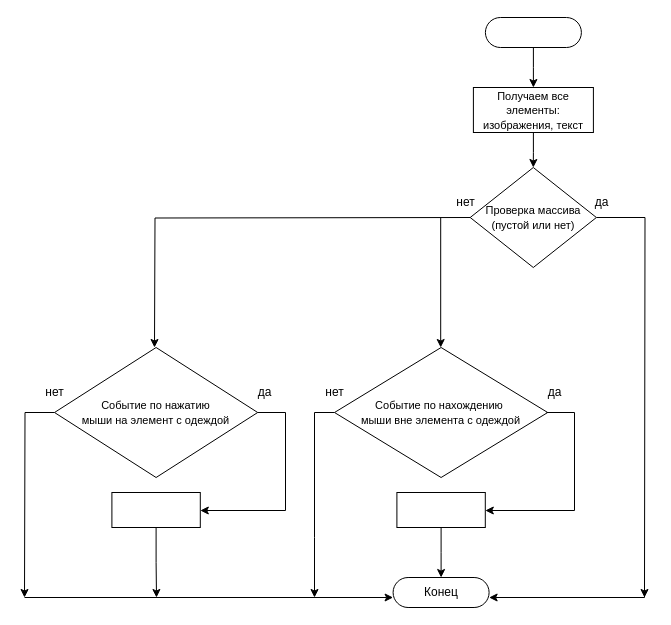
The diagram is 671 pixels wide and 625 high, and some of its shapes have lost their labels. The centre of each missing label's shape, as x and y in pixels:
"Начало" belongs at point 532,32.
"показать текст" belongs at point 155,510.
"скрыть текст" belongs at point 440,510.
